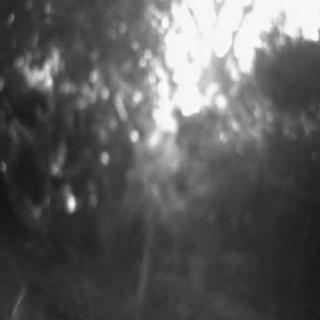other: (148, 7, 300, 146)
